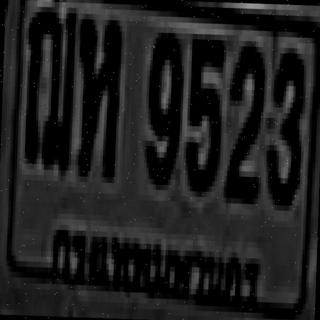A12: (22, 1, 76, 165)
A41: (75, 14, 120, 172)
N02: (223, 38, 263, 196)
N03: (262, 47, 304, 200)
N05: (182, 34, 222, 186)
N09: (144, 27, 180, 180)
P04: (45, 208, 264, 318)
